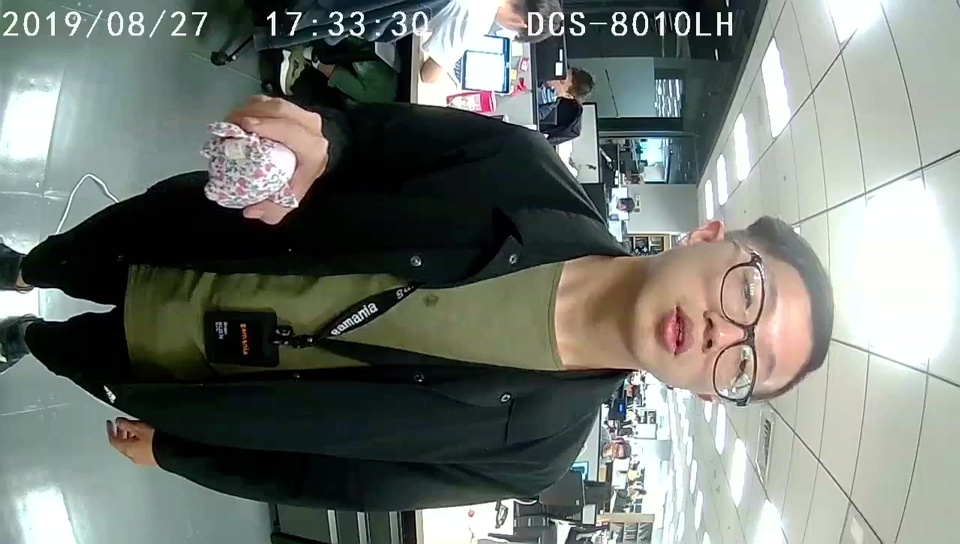pig: (201, 120, 298, 211)
